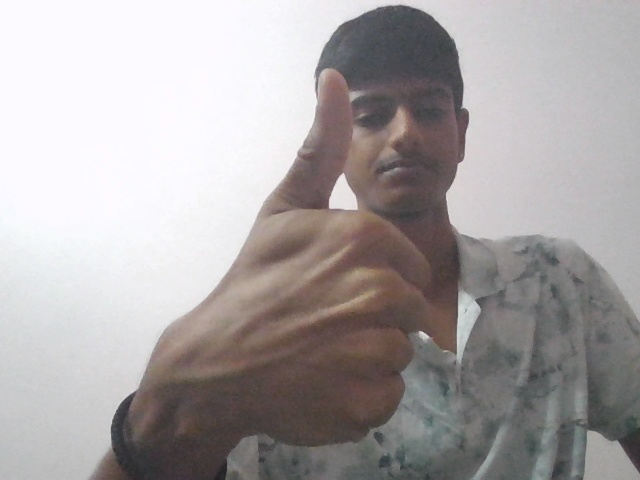thanks: (161, 59, 435, 454)
